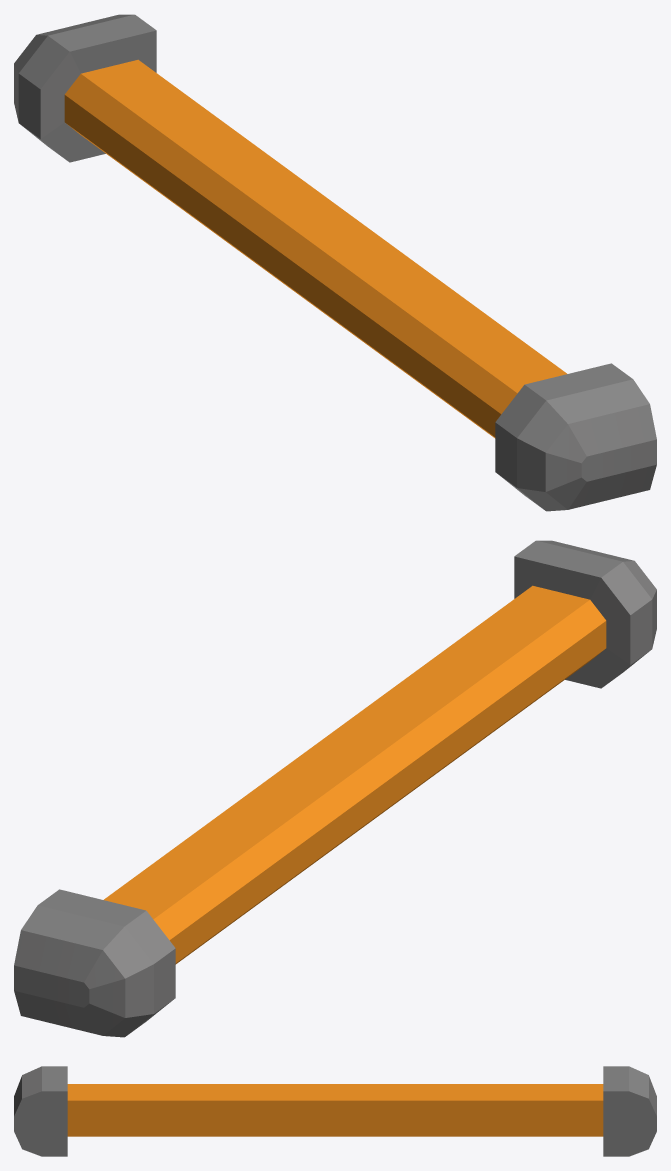
Rendered from B01_neon.fbx.
3 views of the same model, one above another, from view 1: azimuth 30°, elevation 25°; view 2: azimuth 150°, elevation 25°; view 3: azimuth 270°, elevation 25° (orthographic). The views are drawn at different scales.
Parts seen in each view (by area): view 1: B01_neon_xl; view 2: B01_neon_xl; view 3: B01_neon_xl.
Part boxes in pixels (bbox=[...]): B01_neon_xl: bbox=[14, 14, 656, 511]; B01_neon_xl: bbox=[14, 540, 656, 1037]; B01_neon_xl: bbox=[14, 1066, 656, 1156].
Bounding box in the file's own units: 12.7 × 11.59 × 103.
